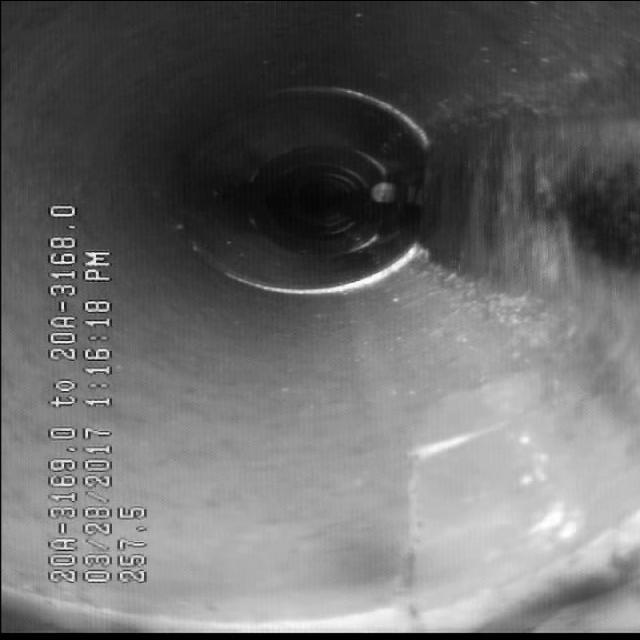Crack: (338, 410, 506, 616)
